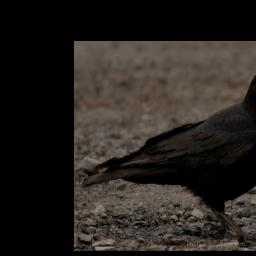Crow: (80, 68, 256, 243)
